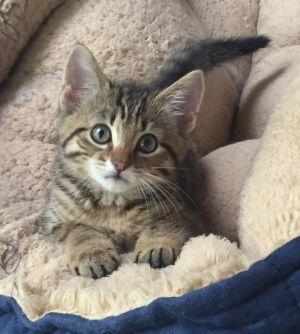bengal: (56, 36, 210, 198)
